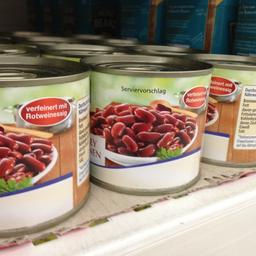beans: (86, 54, 215, 196), (0, 58, 81, 239)
